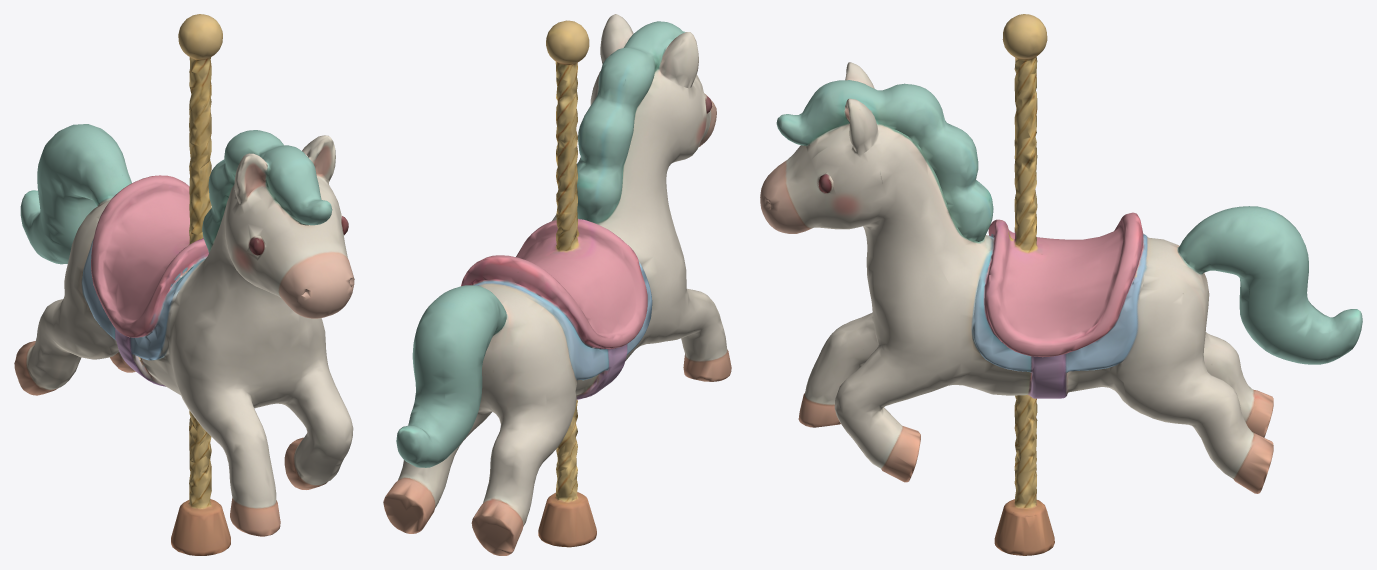
The picture shows the model from 3 angles, left to right: view 1: azimuth 30°, elevation 25°; view 2: azimuth 150°, elevation 25°; view 3: azimuth 270°, elevation 25°; orthographic projection. The views are drawn at different scales.
Parts seen in each view (by area): view 1: repaired; view 2: repaired; view 3: repaired.
Boxes of the visible parts, bbox=[...] form: repaired: bbox=[14, 14, 354, 555]; repaired: bbox=[383, 14, 731, 555]; repaired: bbox=[760, 14, 1362, 555].
Bounding box in the file's own units: 0.2859 × 0.965 × 0.9995.
Materials: 1 (1 with a texture image).
